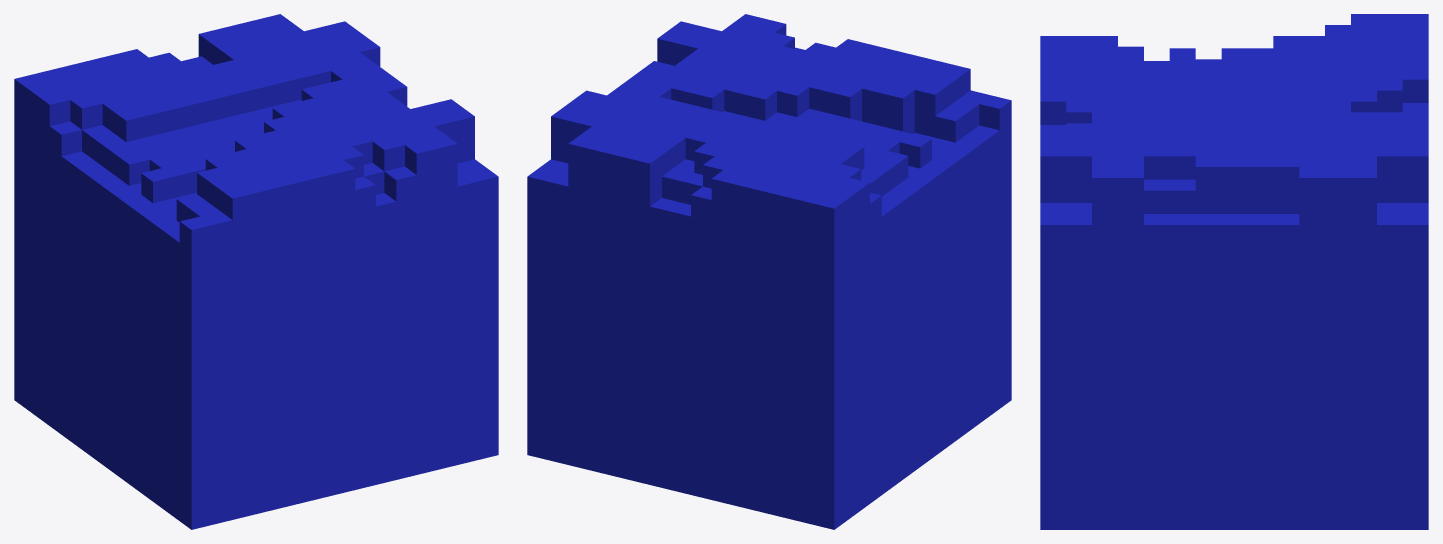
The model's file is blue.obj.
3 renders of one model, left to right at view 1: azimuth 30°, elevation 25°; view 2: azimuth 150°, elevation 25°; view 3: azimuth 270°, elevation 25°, orthographic. The views are drawn at different scales.
Visible parts, largest first — view 1: Cube; view 2: Cube; view 3: Cube.
Part boxes in pixels (x1,y1,x2,y2): Cube: [14, 14, 498, 529]; Cube: [527, 14, 1011, 529]; Cube: [1040, 14, 1428, 529].
Size of the model in its own units: 2.08 by 2.08 by 2.08.
